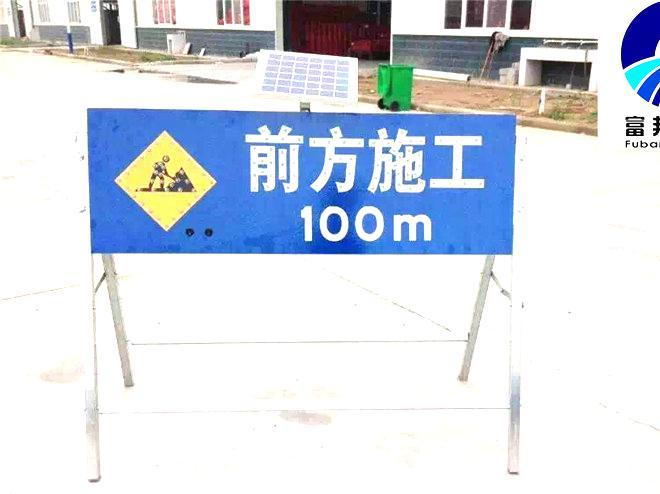sign: (87, 107, 515, 257)
